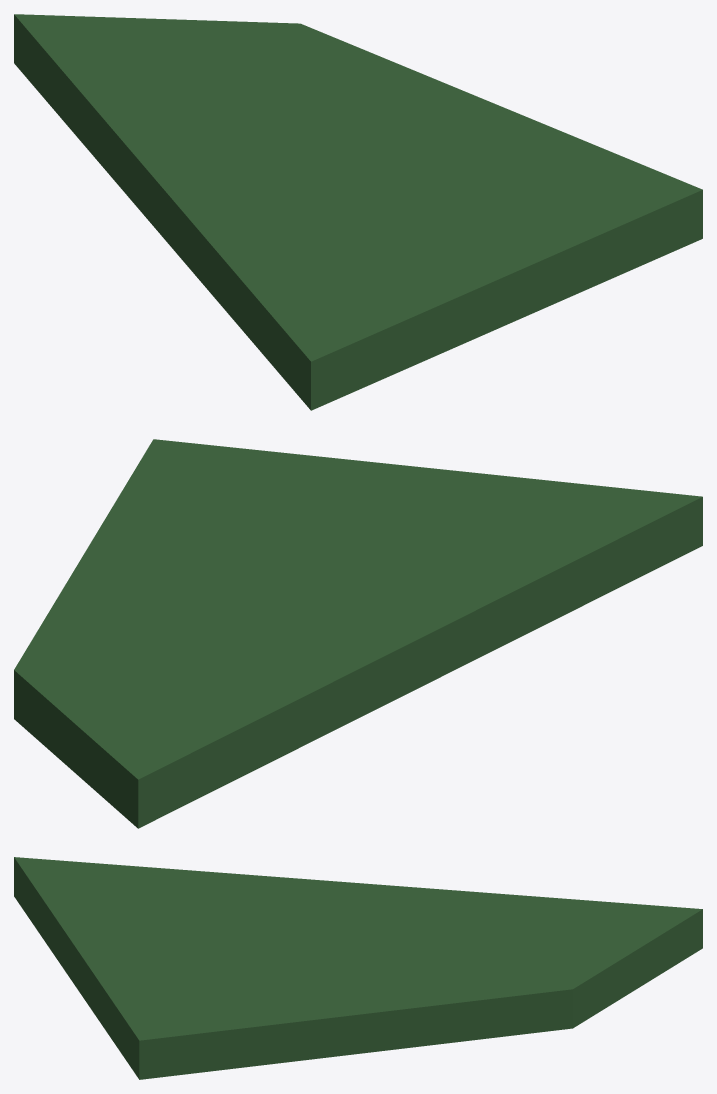
File: x_proval_00_142_1_rmstrd.fbx
3 renders of one model, top to bottom at view 1: azimuth 30°, elevation 25°; view 2: azimuth 150°, elevation 25°; view 3: azimuth 270°, elevation 25°, orthographic. The views are drawn at different scales.
Parts seen in each view (by area): view 1: x_proval_00_142_1_rmstrd1; view 2: x_proval_00_142_1_rmstrd1; view 3: x_proval_00_142_1_rmstrd1.
Part boxes in pixels (left/top/right/bottom): x_proval_00_142_1_rmstrd1: left=14, top=14, right=702, bottom=410; x_proval_00_142_1_rmstrd1: left=14, top=439, right=702, bottom=828; x_proval_00_142_1_rmstrd1: left=14, top=857, right=702, bottom=1079.
Bounding box in the file's own units: 2.01 × 0.2 × 3.18.
